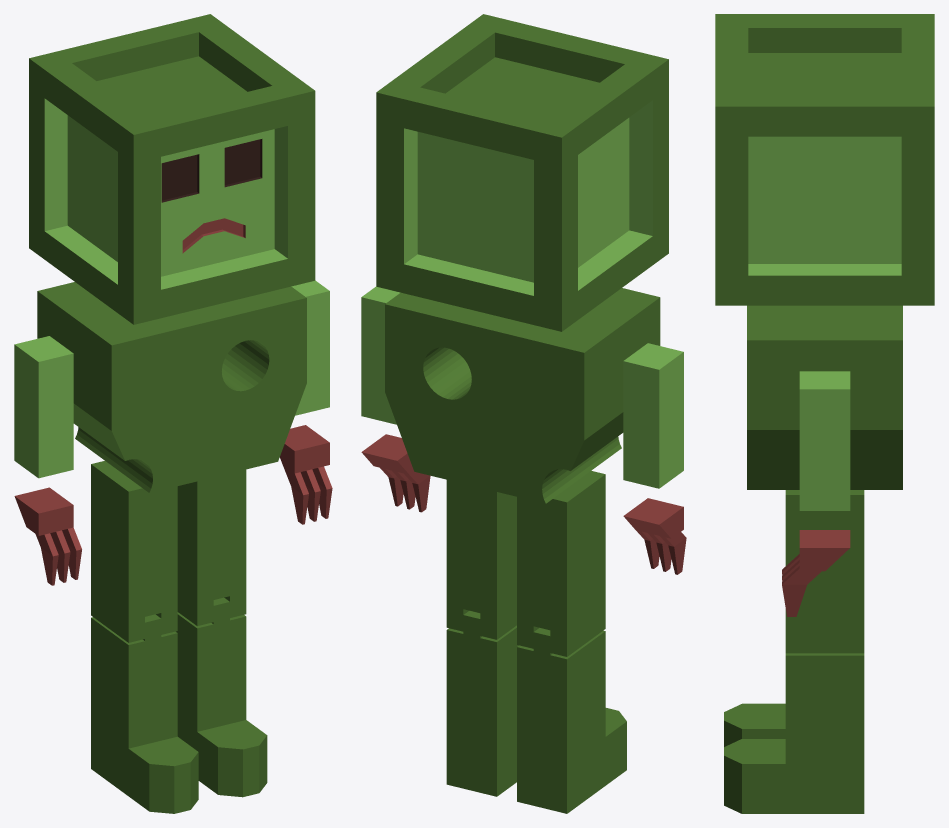
Rendered from SpeedZombie.fbx.
3 renders of one model, left to right at view 1: azimuth 30°, elevation 25°; view 2: azimuth 150°, elevation 25°; view 3: azimuth 270°, elevation 25°, orthographic. The views are drawn at different scales.
Visible parts, largest first — view 1: Cube, Cube.002, Cube.006, Cube.005, Cube.004, Cube.003, Cube.009, Cube.010, Cube.011, Cube.007; view 2: Cube, Cube.002, Cube.006, Cube.005, Cube.004, Cube.003, Cube.009, Cube.007, Cube.010, Cube.011; view 3: Cube, Cube.002, Cube.004, Cube.003, Cube.007, Cube.011, Cube.006.
Boxes of the visible parts, left/top/right/bottom form: Cube: left=29, top=14, right=315, bottom=324; Cube.002: left=37, top=282, right=306, bottom=492; Cube.006: left=91, top=614, right=198, bottom=813; Cube.005: left=91, top=461, right=177, bottom=642; Cube.004: left=176, top=597, right=267, bottom=797; Cube.003: left=177, top=469, right=246, bottom=625; Cube.009: left=14, top=336, right=73, bottom=478; Cube.010: left=14, top=487, right=81, bottom=585; Cube.011: left=280, top=425, right=332, bottom=524; Cube.007: left=291, top=280, right=329, bottom=415; Cube: left=376, top=14, right=668, bottom=331; Cube.002: left=385, top=288, right=660, bottom=503; Cube.006: left=517, top=628, right=626, bottom=813; Cube.005: left=517, top=470, right=605, bottom=656; Cube.004: left=446, top=610, right=518, bottom=796; Cube.003: left=446, top=480, right=516, bottom=639; Cube.009: left=623, top=343, right=683, bottom=488; Cube.007: left=361, top=286, right=400, bottom=424; Cube.010: left=623, top=498, right=686, bottom=574; Cube.011: left=361, top=434, right=430, bottom=512; Cube: left=715, top=14, right=934, bottom=305; Cube.002: left=747, top=305, right=902, bottom=489; Cube.004: left=724, top=653, right=864, bottom=813; Cube.003: left=785, top=490, right=864, bottom=653; Cube.007: left=799, top=371, right=850, bottom=510; Cube.011: left=782, top=530, right=850, bottom=616; Cube.006: left=724, top=703, right=785, bottom=746.
Bounding box in the file's own units: 321 × 730 × 200.
